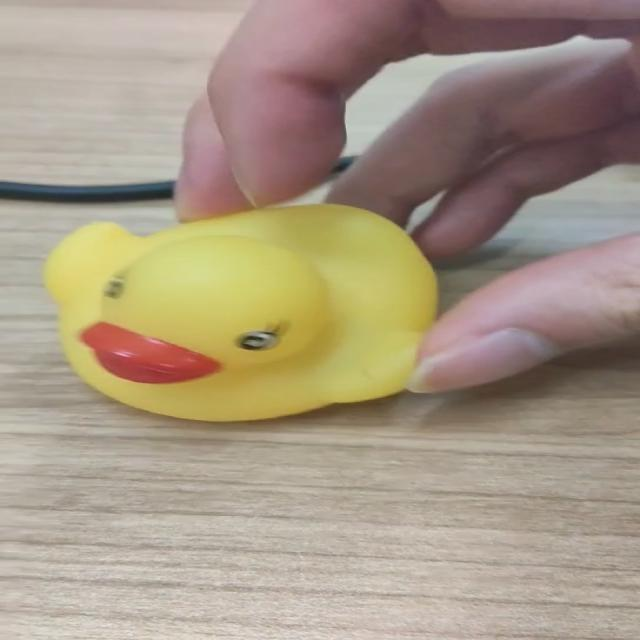rubber-duck: (43, 204, 435, 419)
